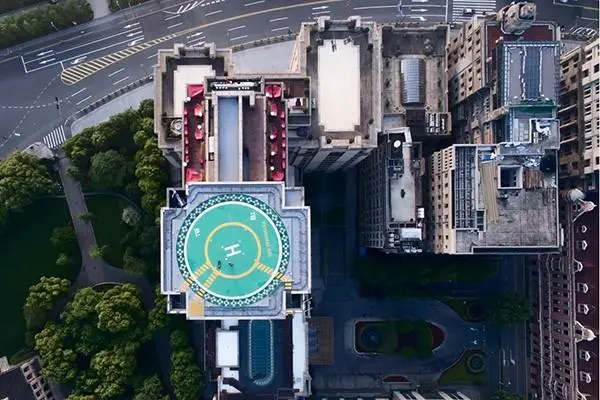Apron: (204, 220, 261, 279)
